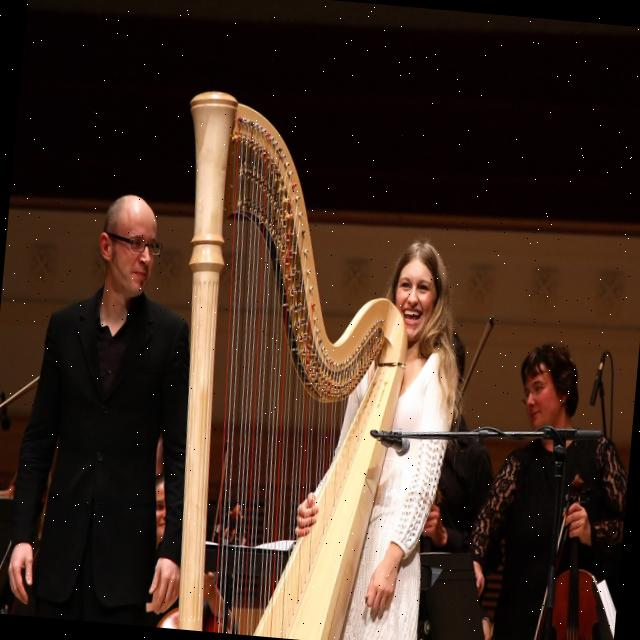harp: (140, 81, 429, 640)
violin: (535, 452, 621, 640)
